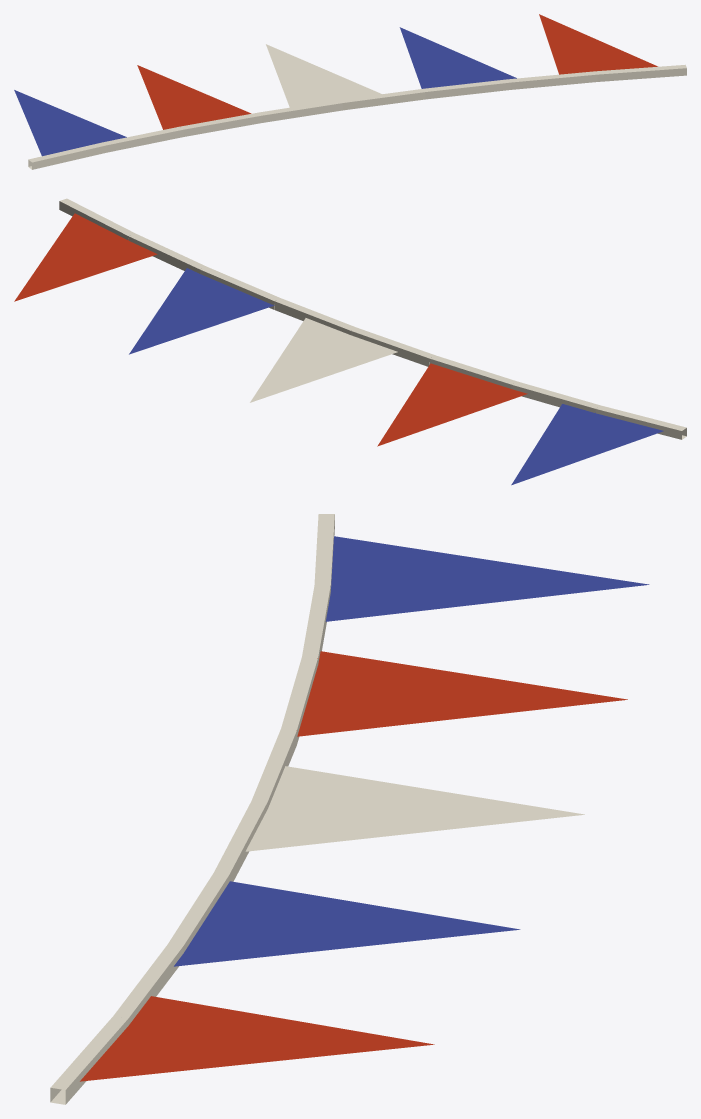
The model's file is keep-wd01_65.obj.
3 views of the same model, one above another, from view 1: azimuth 30°, elevation 25°; view 2: azimuth 150°, elevation 25°; view 3: azimuth 270°, elevation 25° (orthographic). The views are drawn at different scales.
Size of the model in its own units: 1 by 0.012 by 0.4412.
Materials: 1 (1 with a texture image).
